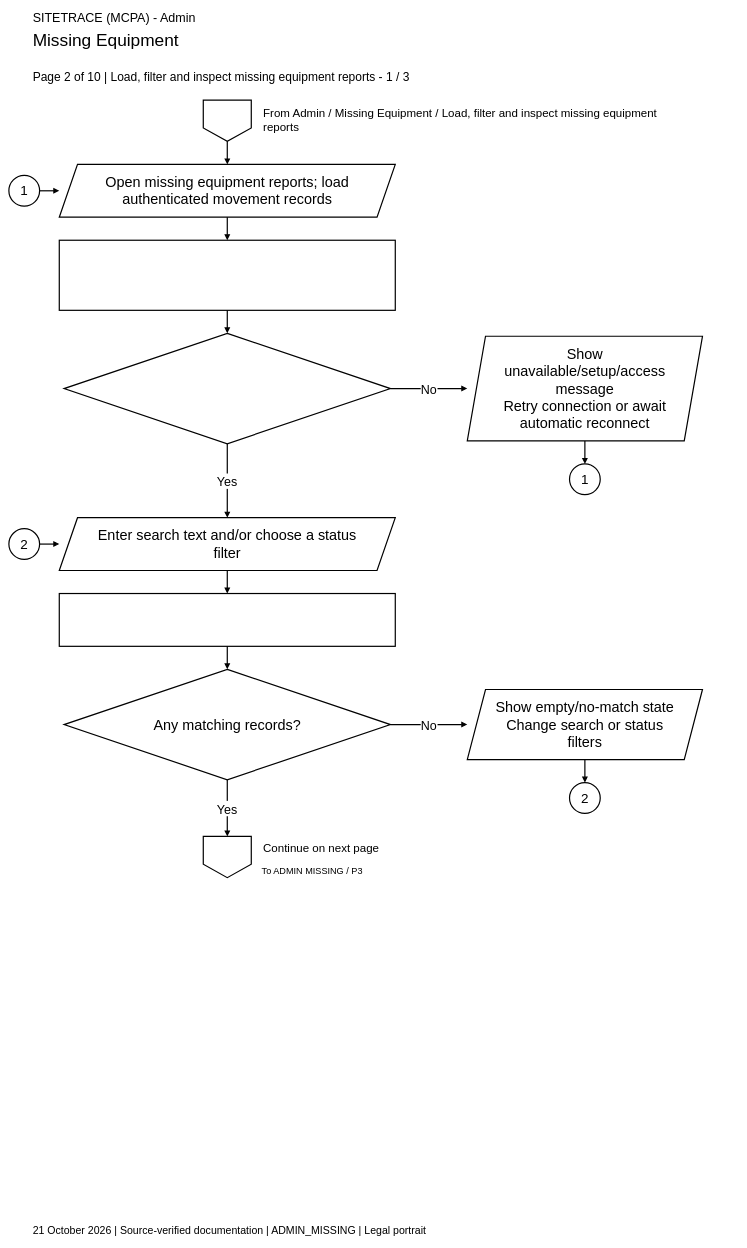
Some shapes in this 747 by 1248 pixel diagram are drawn without their labels. Each missing label, with the centre of its shape:
Call mcpa_movement_snapshot; use role-scoped records and current equipment data: the point at 227,275
CG: the point at 227,120
CJ: the point at 227,857
Match ID, tool, person or project; sort saved records; calculate summary: the point at 227,620
Snapshot valid and available?: the point at 227,388
